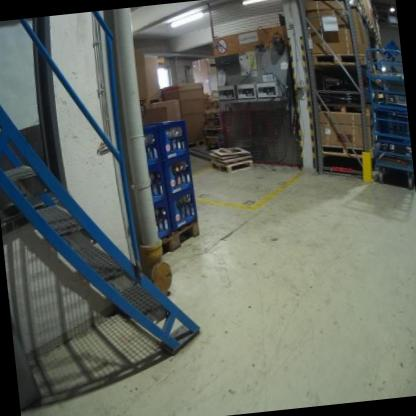pallet: (320, 136, 376, 165), (310, 47, 368, 72), (317, 97, 371, 121), (210, 156, 254, 175), (185, 137, 206, 151)
